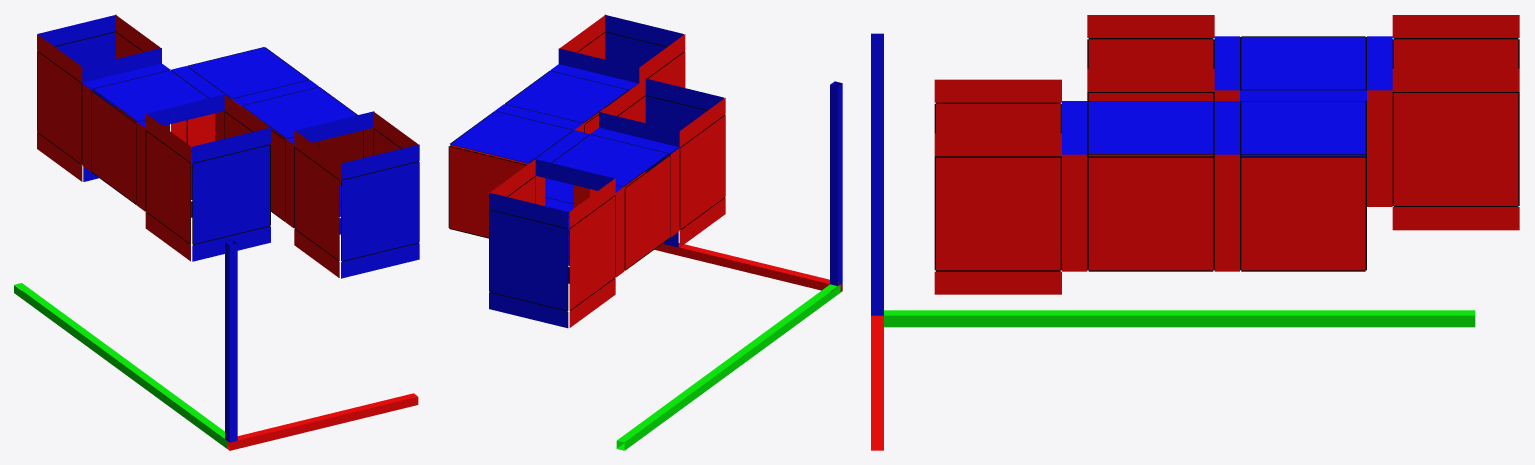
Rendered from xxx.gltf.
The picture shows the model from 3 angles, left to right: view 1: azimuth 30°, elevation 25°; view 2: azimuth 150°, elevation 25°; view 3: azimuth 270°, elevation 25°; orthographic projection. The views are drawn at different scales.
Parts seen in each view (by area): view 1: spider(1, 0, 1):-J, spider(0, 1, 1):-J, spider(0, 2, 1):-I, spider(1, 0, 1):-I, spider(0, 3, 1):-I, spider(0, 1, 1):-I, spider(1, 2, 1):+K, spider(1, 1, 1):+K, spider(0, 2, 1):+K, axisJ:-I, axisK:-J, axisJ:+K (+31 smaller); view 2: spider(0, 3, 1):+J, spider(1, 2, 1):+J, spider(0, 2, 1):-I, spider(0, 1, 1):-I, spider(0, 3, 1):-I, spider(1, 2, 1):+K, spider(1, 1, 1):+K, spider(0, 2, 1):+K, axisJ:-I, axisJ:+K, edgeJ(0, 1, 1):-I (×2), axisK:+J (+29 smaller); view 3: spider(1, 1, 1):+I, spider(1, 0, 1):+I, spider(1, 2, 1):+I, spider(0, 3, 1):+I, axisJ:+I, spider(0, 2, 1):+K, spider(1, 1, 1):+K, spider(1, 2, 1):+K, edgeJ(1, 0, 1):+I (×2), spider(1, 0, 1):-I, spider(0, 1, 1):-I, spider(0, 3, 1):-I (+18 smaller).
Boxes of the visible parts, <box> form: spider(1, 0, 1):-J: <box>341,161,419,261</box>; spider(0, 1, 1):-J: <box>192,144,270,244</box>; spider(0, 2, 1):-I: <box>91,90,136,204</box>; spider(1, 0, 1):-I: <box>294,147,339,261</box>; spider(0, 3, 1):-I: <box>37,51,82,164</box>; spider(0, 1, 1):-I: <box>145,130,190,244</box>; spider(1, 2, 1):+K: <box>187,47,309,98</box>; spider(1, 1, 1):+K: <box>241,87,357,138</box>; spider(0, 2, 1):+K: <box>93,70,208,121</box>; axisJ:-I: <box>14,285,227,448</box>; axisK:-J: <box>229,243,237,442</box>; axisJ:+K: <box>14,283,224,438</box>; spider(0, 3, 1):+J: <box>489,209,568,311</box>; spider(1, 2, 1):+J: <box>448,146,526,238</box>; spider(0, 2, 1):-I: <box>624,155,670,270</box>; spider(0, 1, 1):-I: <box>679,115,725,230</box>; spider(0, 3, 1):-I: <box>569,195,615,310</box>; spider(1, 2, 1):+K: <box>450,111,573,163</box>; spider(1, 1, 1):+K: <box>505,71,628,123</box>; spider(0, 2, 1):+K: <box>551,134,668,186</box>; axisJ:-I: <box>624,285,840,450</box>; axisJ:+K: <box>617,284,837,442</box>; edgeJ(0, 1, 1):-I (×2): <box>670,98,725,237</box>; axisK:+J: <box>830,84,837,285</box>; spider(1, 1, 1):+I: <box>1087,156,1214,271</box>; spider(1, 0, 1):+I: <box>934,156,1061,271</box>; spider(1, 2, 1):+I: <box>1240,156,1366,271</box>; spider(0, 3, 1):+I: <box>1392,92,1519,206</box>; axisJ:+I: <box>884,316,1475,327</box>; spider(0, 2, 1):+K: <box>1240,36,1366,90</box>; spider(1, 1, 1):+K: <box>1087,101,1214,154</box>; spider(1, 2, 1):+K: <box>1240,101,1366,154</box>; edgeJ(1, 0, 1):+I (×2): <box>934,133,1087,271</box>; spider(1, 0, 1):-I: <box>934,102,1061,157</box>; spider(0, 1, 1):-I: <box>1087,38,1214,92</box>; spider(0, 3, 1):-I: <box>1392,38,1519,92</box>.
Size of the model in its own units: 2.71 by 2.9 by 5.11.
